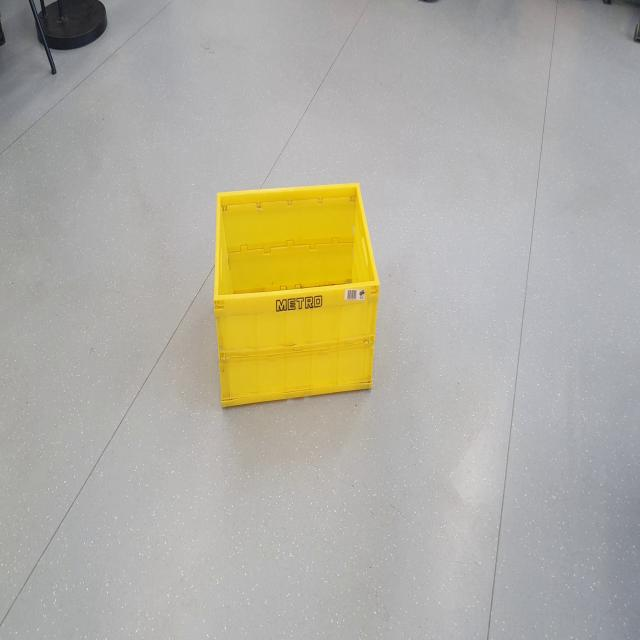box: (209, 177, 383, 436)
